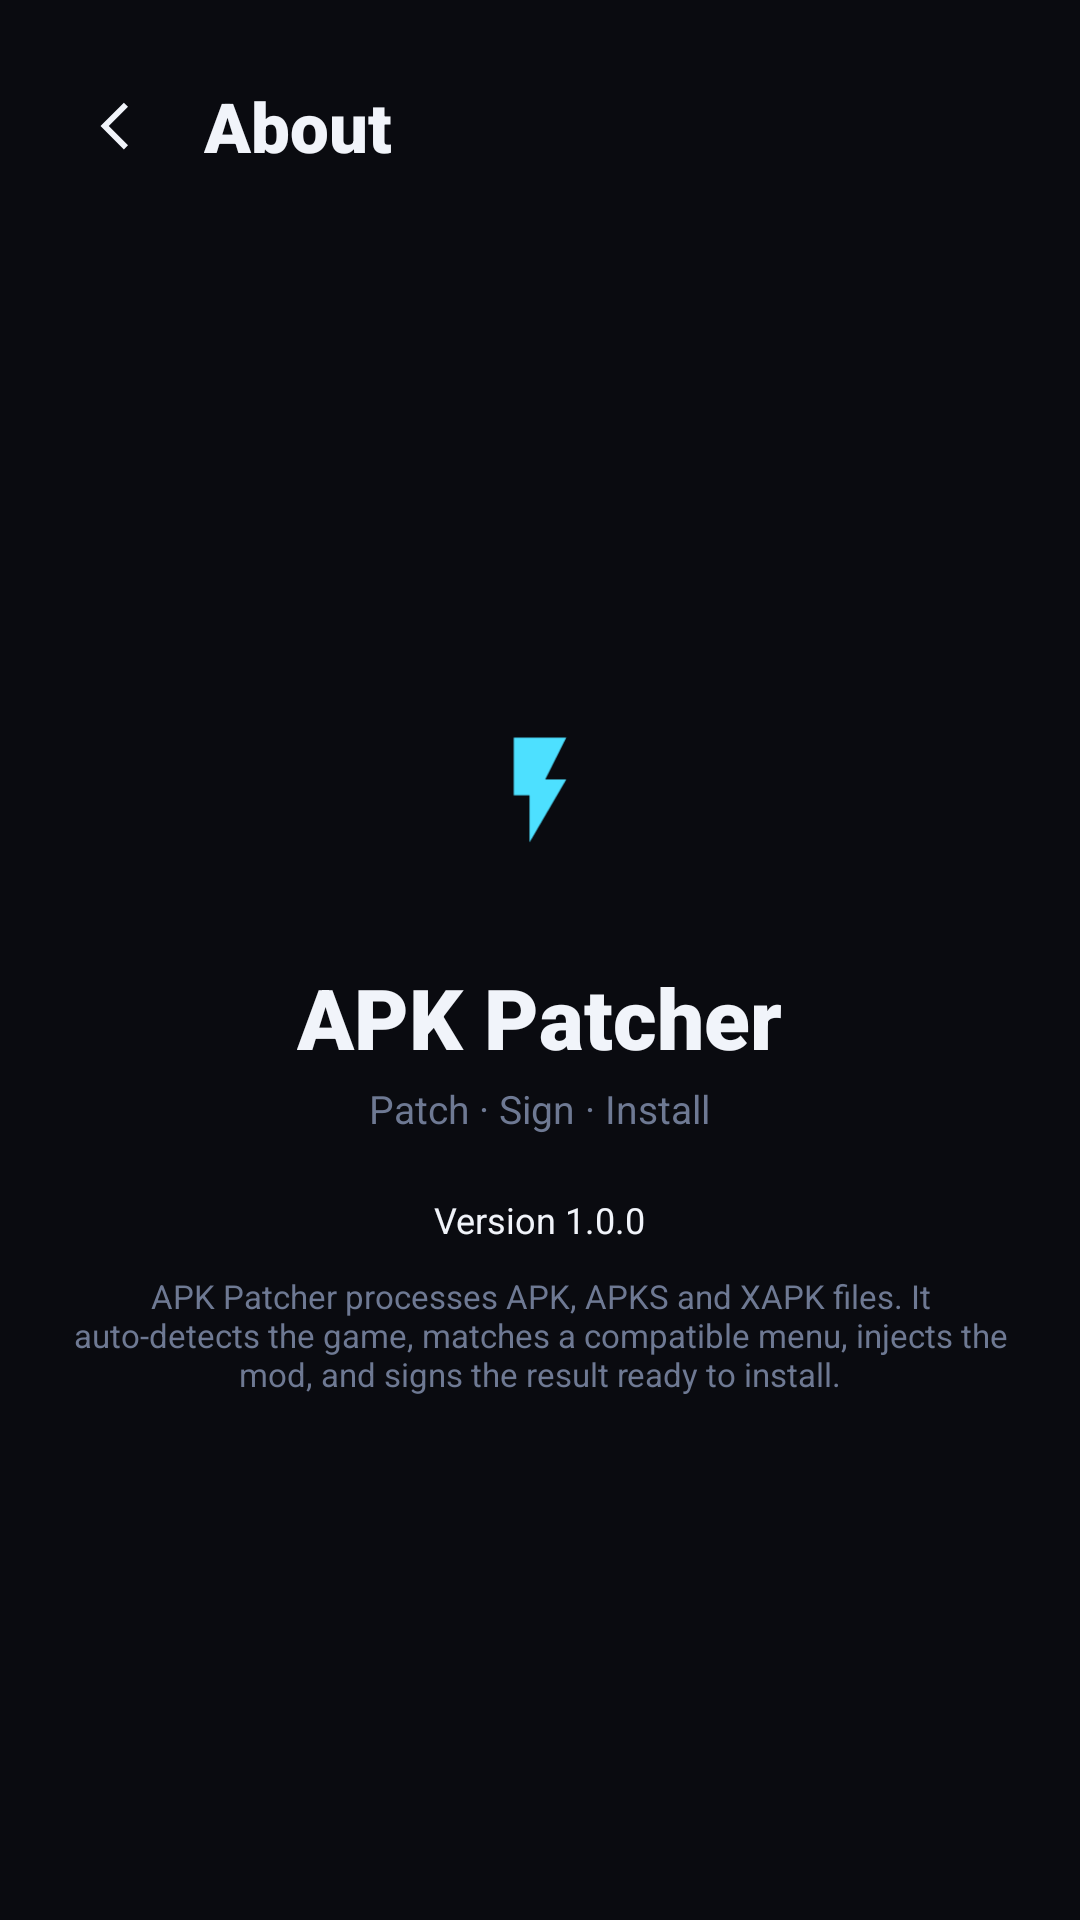

Icon bounding boxes for this 1080px x 1920px phone screenshot, format BBox(x1, y1, x2, y2):
back: BBox(100, 103, 128, 150)
bolt: BBox(513, 737, 567, 842)
